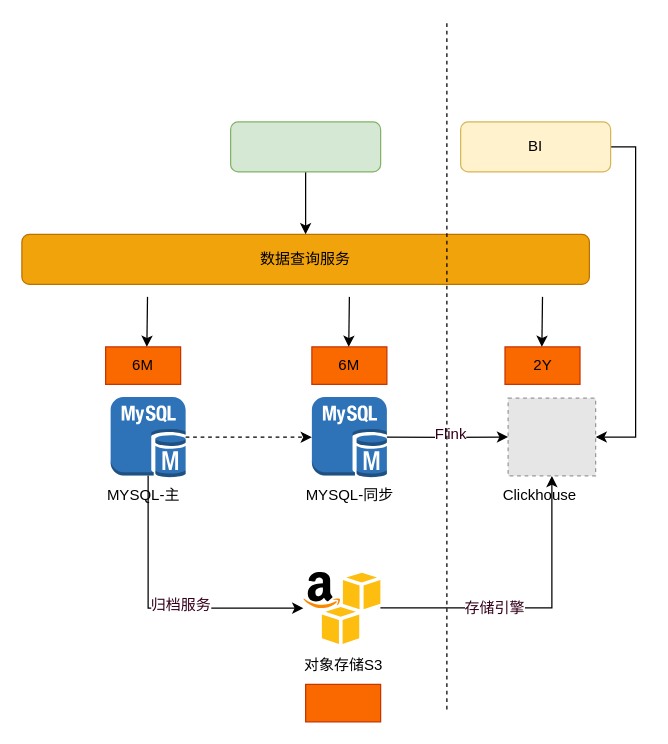
Some shapes in this 668 by 744 pixel diagram are drawn without their labels. Grey dashed boxes stand in for pictures. Each missing label, with the box of its shape:
APP: (229, 121, 381, 172)
永久: (304, 683, 381, 722)
